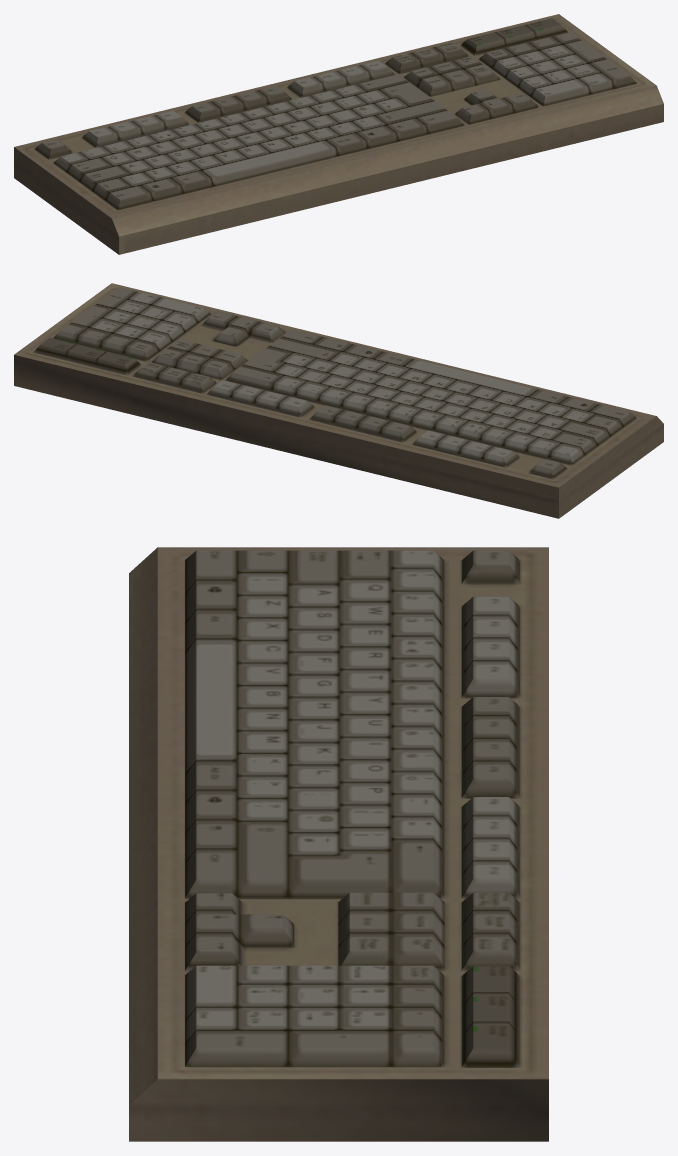
The model's file is pc_keyboard_mp_3.obj.
3 renders of one model, top to bottom at view 1: azimuth 30°, elevation 25°; view 2: azimuth 150°, elevation 25°; view 3: azimuth 270°, elevation 25°, orthographic. The views are drawn at different scales.
Parts seen in each view (by area): view 1: pc_keyboard_mp_3; view 2: pc_keyboard_mp_3; view 3: pc_keyboard_mp_3.
Boxes of the visible parts, bbox=[...] form: pc_keyboard_mp_3: bbox=[14, 14, 663, 254]; pc_keyboard_mp_3: bbox=[14, 283, 663, 518]; pc_keyboard_mp_3: bbox=[129, 547, 548, 1141].
Bounding box in the file's own units: 0.55 × 0.037 × 0.1836.
